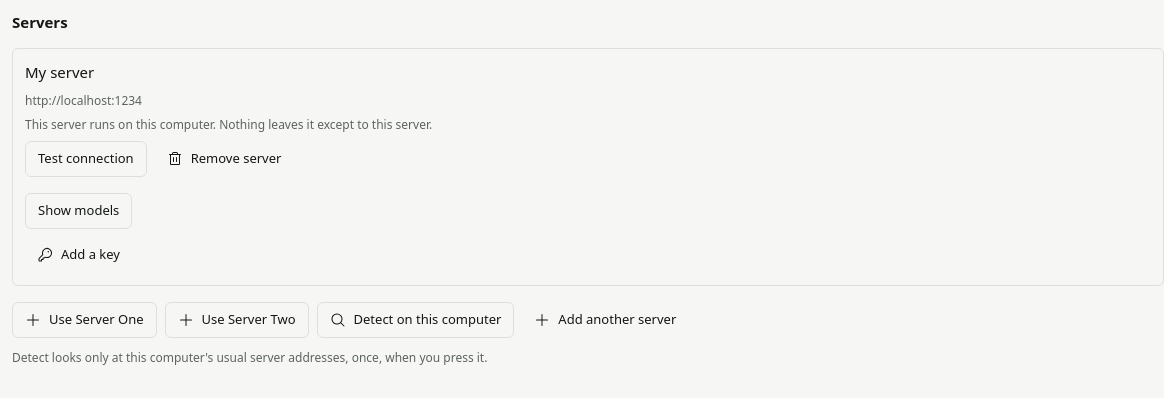
Test: a listed server › shows where its messages go and Test connection with the result in plain words
Expected: the text with test id "endpoint-host" reads "http://localhost:1234", [25,92,142,108]
Expected: the text with test id "endpoint-privacy" shows "Nothing leaves it except to this server", [25,116,432,133]
What coordinates should you click on to do the following:
click the button with test id "endpoint-test"
I would click on:
 (86, 159)
Its box is [25,141,147,177].
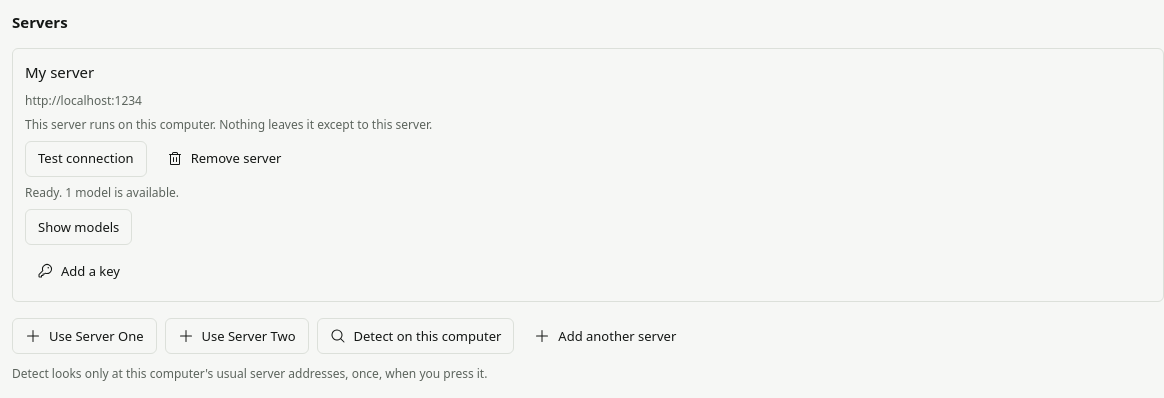
Expected: the text with test id "endpoint-test-result" reads "Ready. 1 model is available.", [25,184,179,201]
